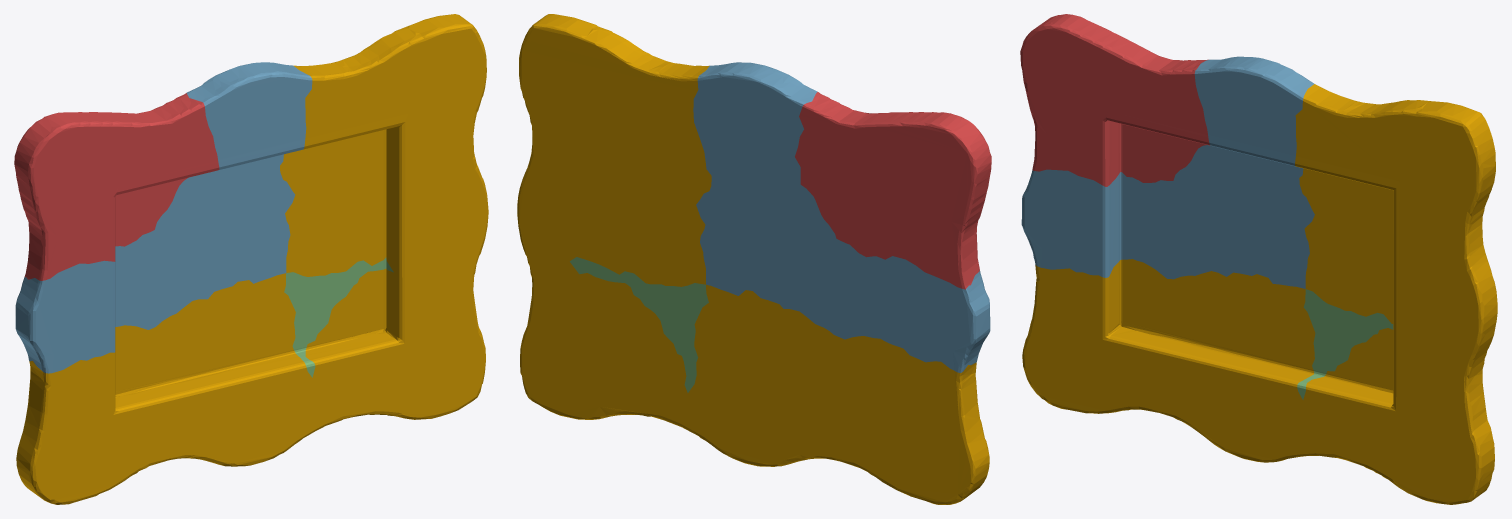
Rendered from fractured_75_4pcs.glb.
The picture shows the model from 3 angles, left to right: view 1: azimuth 30°, elevation 25°; view 2: azimuth 150°, elevation 25°; view 3: azimuth 330°, elevation 25°; orthographic projection.
Visible parts, largest first — view 1: piece_0.obj, piece_2.obj, piece_1.obj, piece_3.obj; view 2: piece_0.obj, piece_2.obj, piece_1.obj, piece_3.obj; view 3: piece_0.obj, piece_2.obj, piece_1.obj, piece_3.obj.
Part boxes in pixels (left/top/right/bottom): piece_0.obj: left=16, top=14, right=488, bottom=504; piece_2.obj: left=15, top=62, right=312, bottom=373; piece_1.obj: left=14, top=93, right=219, bottom=280; piece_3.obj: left=284, top=257, right=393, bottom=377; piece_0.obj: left=517, top=14, right=989, bottom=504; piece_2.obj: left=693, top=62, right=990, bottom=372; piece_1.obj: left=795, top=92, right=991, bottom=289; piece_3.obj: left=570, top=257, right=708, bottom=392; piece_0.obj: left=1022, top=84, right=1497, bottom=504; piece_2.obj: left=1021, top=56, right=1314, bottom=288; piece_1.obj: left=1020, top=14, right=1209, bottom=186; piece_3.obj: left=1297, top=289, right=1393, bottom=399.
Bounding box in the file's own units: 1 × 0.8105 × 0.0645.
